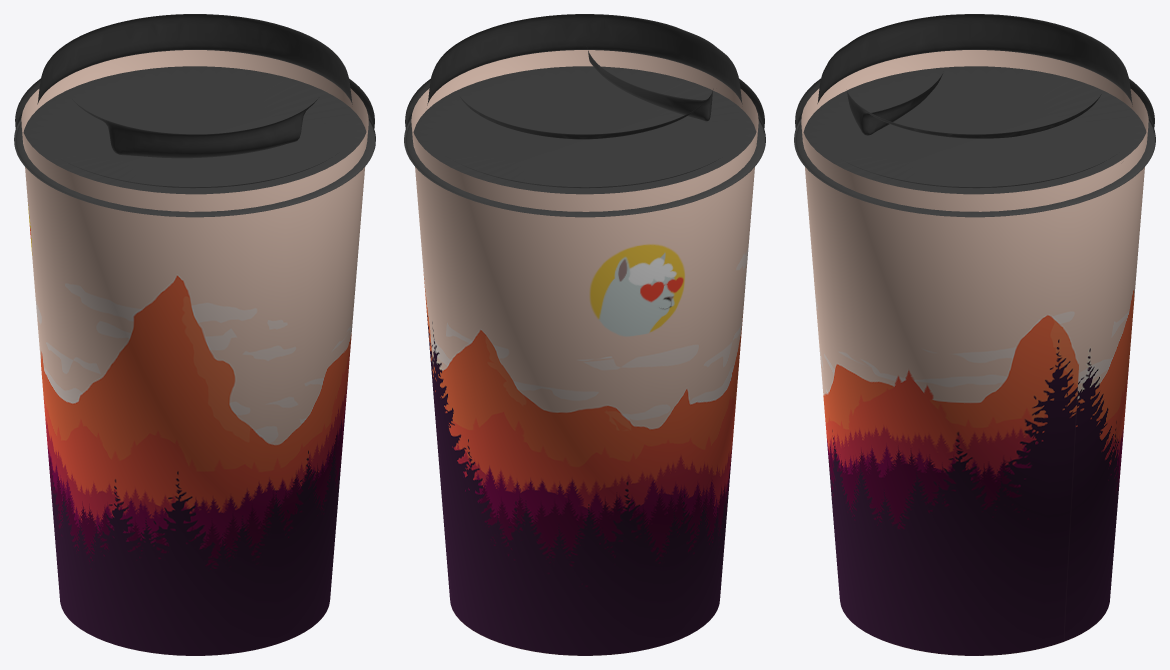
The model's file is mugModel.glb.
The picture shows the model from 3 angles, left to right: view 1: azimuth 30°, elevation 25°; view 2: azimuth 150°, elevation 25°; view 3: azimuth 270°, elevation 25°; orthographic projection.
Visible parts, largest first — view 1: Coffee Coup_0, Lid_0; view 2: Coffee Coup_0, Lid_0; view 3: Coffee Coup_0, Lid_0.
Part boxes in pixels (<box>): Coffee Coup_0: <box>21,50,368,655</box>; Lid_0: <box>14,14,375,217</box>; Coffee Coup_0: <box>411,50,758,655</box>; Lid_0: <box>404,14,765,217</box>; Coffee Coup_0: <box>801,50,1148,655</box>; Lid_0: <box>794,14,1155,217</box>.
Bounding box in the file's own units: 6.79 × 10.8 × 6.79.
2 materials, 1 textured.
